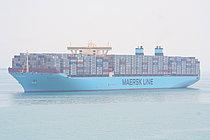Ship: (6, 43, 205, 96)
